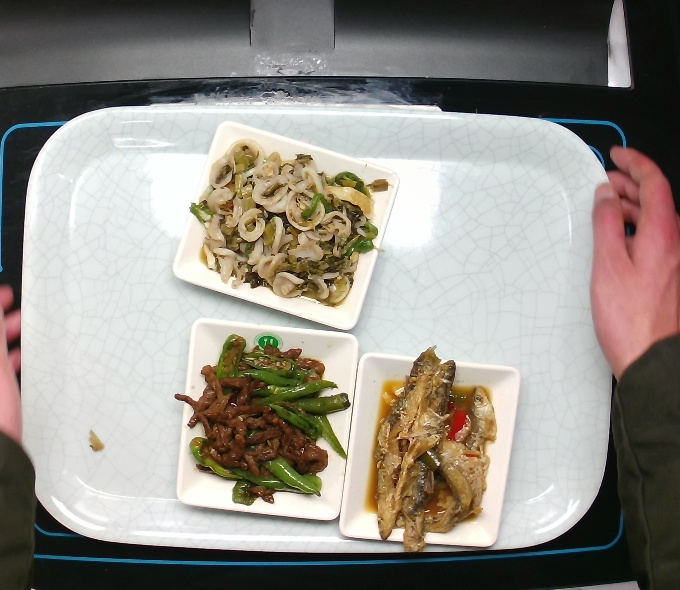wcq-QingJiaoNiuRou: (170, 326, 352, 518)
wcq-XiaoXiYu: (361, 346, 507, 554)
wcq-XueCaiYouYu: (179, 136, 391, 305)
